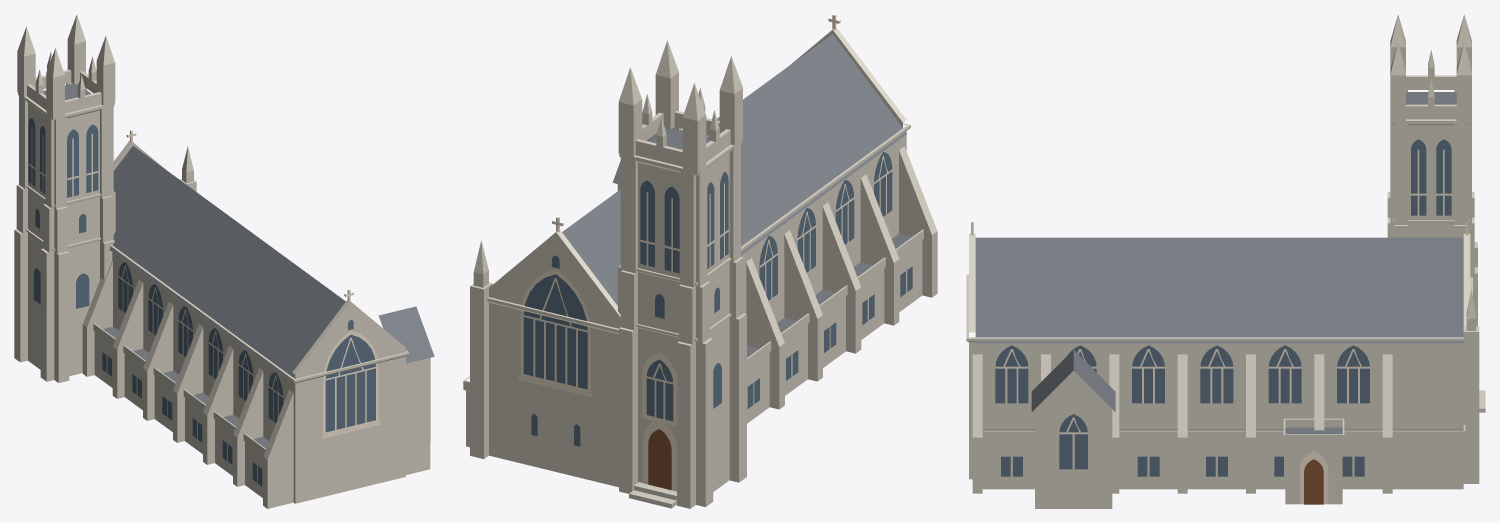
Rendered from cle-amasa-stone-chapel.glb.
The picture shows the model from 3 angles, left to right: view 1: azimuth 30°, elevation 25°; view 2: azimuth 150°, elevation 25°; view 3: azimuth 270°, elevation 25°; orthographic projection. The views are drawn at different scales.
Visible parts, largest first — view 1: Amasa Stone Chapel; view 2: Amasa Stone Chapel; view 3: Amasa Stone Chapel.
Part boxes in pixels (x1,y1,x2,y2): Amasa Stone Chapel: (14,14,434,508); Amasa Stone Chapel: (463,15,937,508); Amasa Stone Chapel: (966,14,1485,508).
Size of the model in its own units: 27.2 by 37.6 by 47.15.
